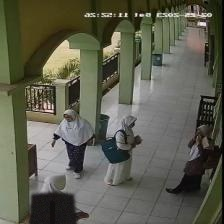Cadar_Niqab: (29, 172, 76, 224)
